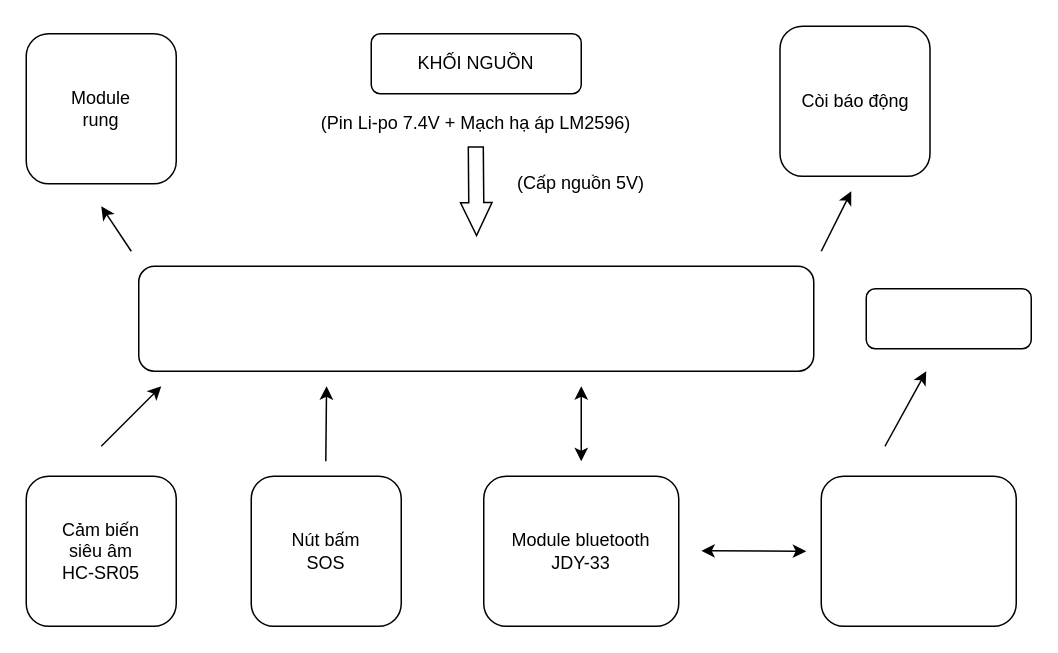
This 1058x653 diagram has some shape labels left out. The shapes that lost their labels are listed below. From the top down, each one's box as (x1, y1, x2, y2) in pixels, then its label:
(137, 265, 814, 371): KHỐI XỬ LÝ TRUNG TÂM (Arduino Nano)
(865, 287, 1031, 349): Người thân (SMS + GPS)
(820, 475, 1016, 626): Điện thoại thông minh (App Android)
